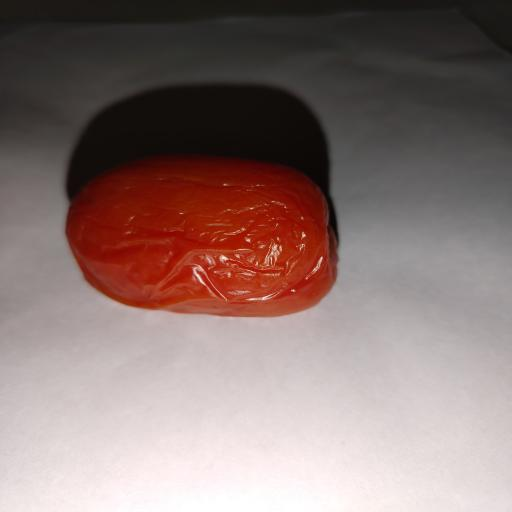spoiled: (67, 155, 334, 316)
